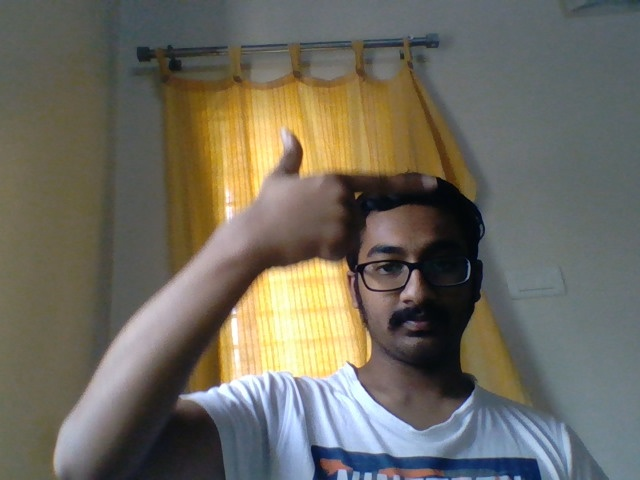yes: (196, 96, 439, 275)
